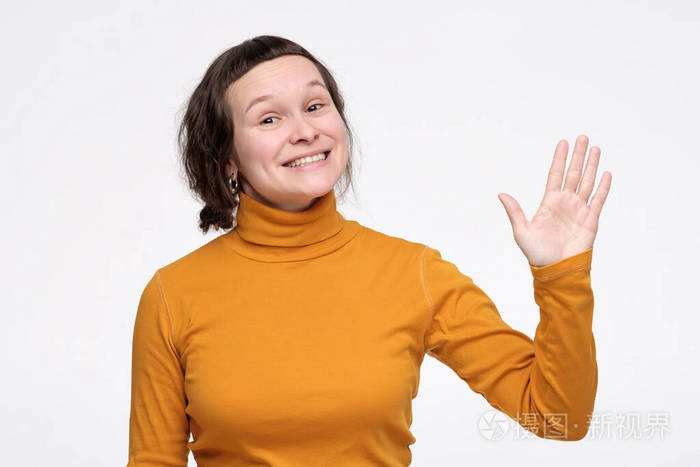no-phone: (494, 134, 614, 266)
